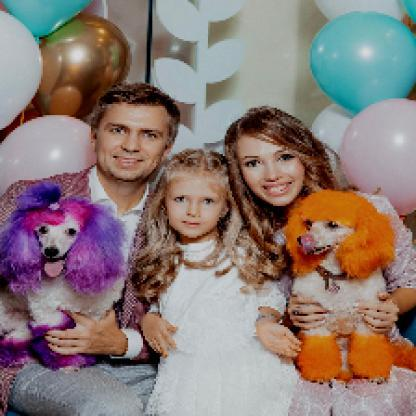child: (135, 154, 304, 416)
